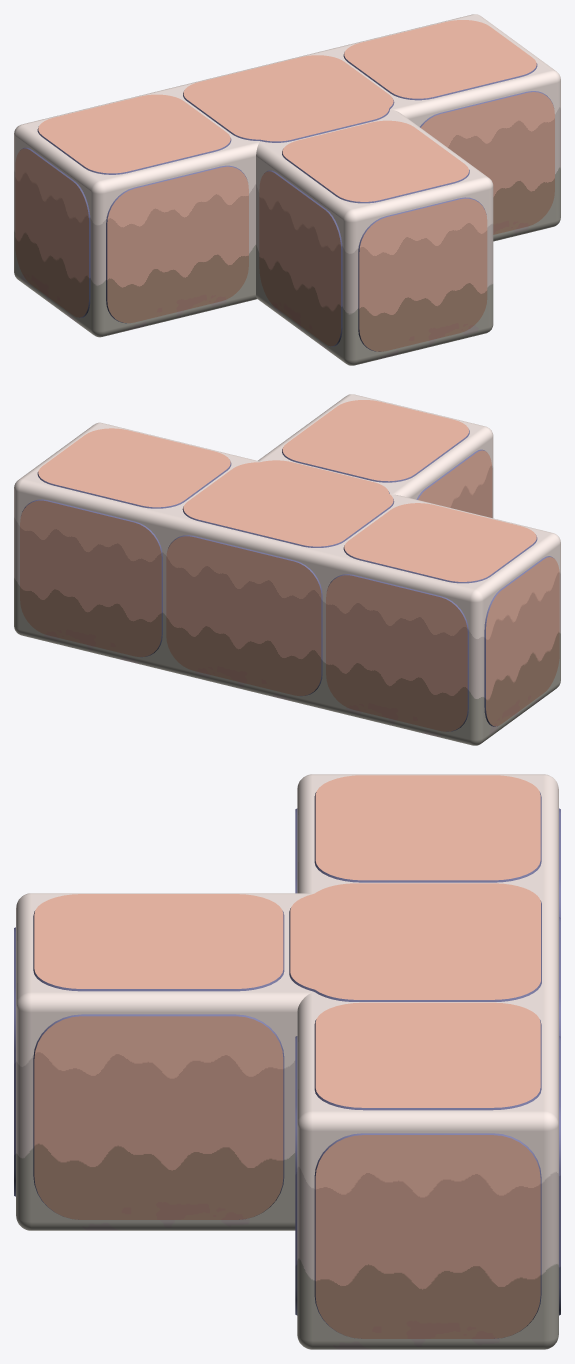
File: R4B_Tee4.glb
3 views of the same model, one above another, from view 1: azimuth 30°, elevation 25°; view 2: azimuth 150°, elevation 25°; view 3: azimuth 270°, elevation 25° (orthographic). The views are drawn at different scales.
Parts seen in each view (by area): view 1: R4B_Tee4; view 2: R4B_Tee4; view 3: R4B_Tee4.
Part boxes in pixels (bbox=[...]): R4B_Tee4: bbox=[14, 14, 560, 365]; R4B_Tee4: bbox=[14, 394, 560, 745]; R4B_Tee4: bbox=[14, 774, 560, 1349].
Size of the model in its own units: 1.62 by 0.52 by 1.07.
Materials: 3 (3 with a texture image).
